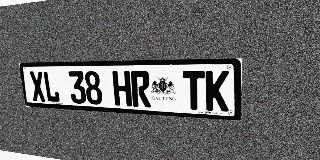3: (68, 71, 87, 104)
8: (84, 71, 103, 105)
H: (112, 71, 132, 106)
K: (206, 71, 229, 112)
L: (42, 71, 60, 103)
R: (130, 71, 151, 107)
T: (183, 71, 205, 110)
X: (29, 71, 46, 102)
